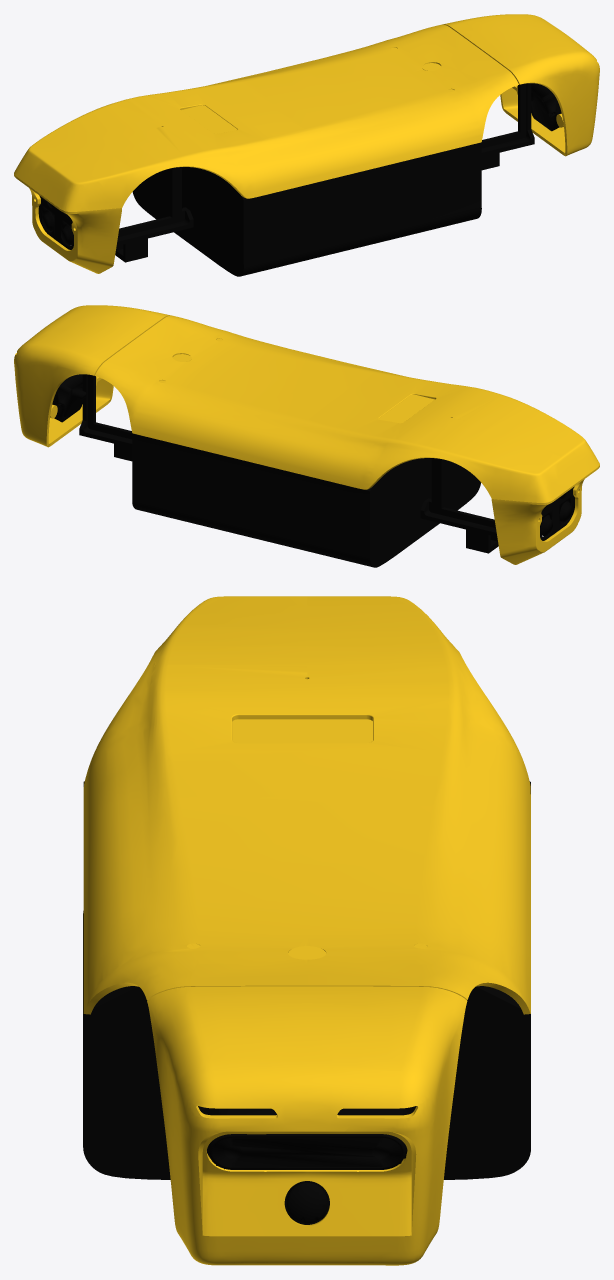
The picture shows the model from 3 angles, top to bottom: view 1: azimuth 30°, elevation 25°; view 2: azimuth 150°, elevation 25°; view 3: azimuth 270°, elevation 25°; orthographic projection. The views are drawn at different scales.
Visible parts, largest first — view 1: solid_TORSO_FILL (×6), Mesh (×3); view 2: solid_TORSO_FILL (×6), Mesh (×3); view 3: solid_TORSO_FILL (×3), Mesh (×2).
Part boxes in pixels (box(x1,y1,x2,y2)): solid_TORSO_FILL (×6): box(14, 14, 599, 276); Mesh (×3): box(38, 83, 561, 249); solid_TORSO_FILL (×6): box(14, 305, 599, 567); Mesh (×3): box(52, 374, 574, 540); solid_TORSO_FILL (×3): box(83, 596, 530, 1265); Mesh (×2): box(199, 1106, 412, 1224).
Bounding box in the file's own units: 0.5459 × 0.1973 × 0.122.
